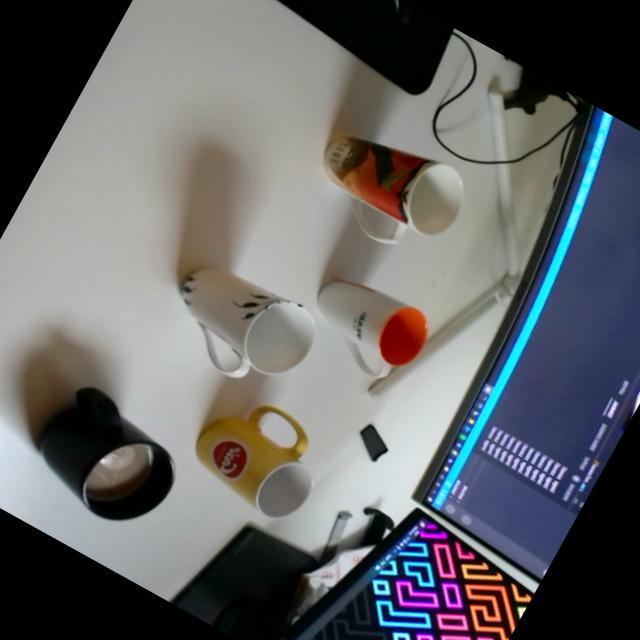Cocio Cup: (180, 382, 340, 532)
Cup: (14, 372, 199, 542)
Halloween cup: (298, 108, 479, 270)
Hand painted cup: (150, 246, 328, 406)
White Cup: (288, 260, 436, 396)
